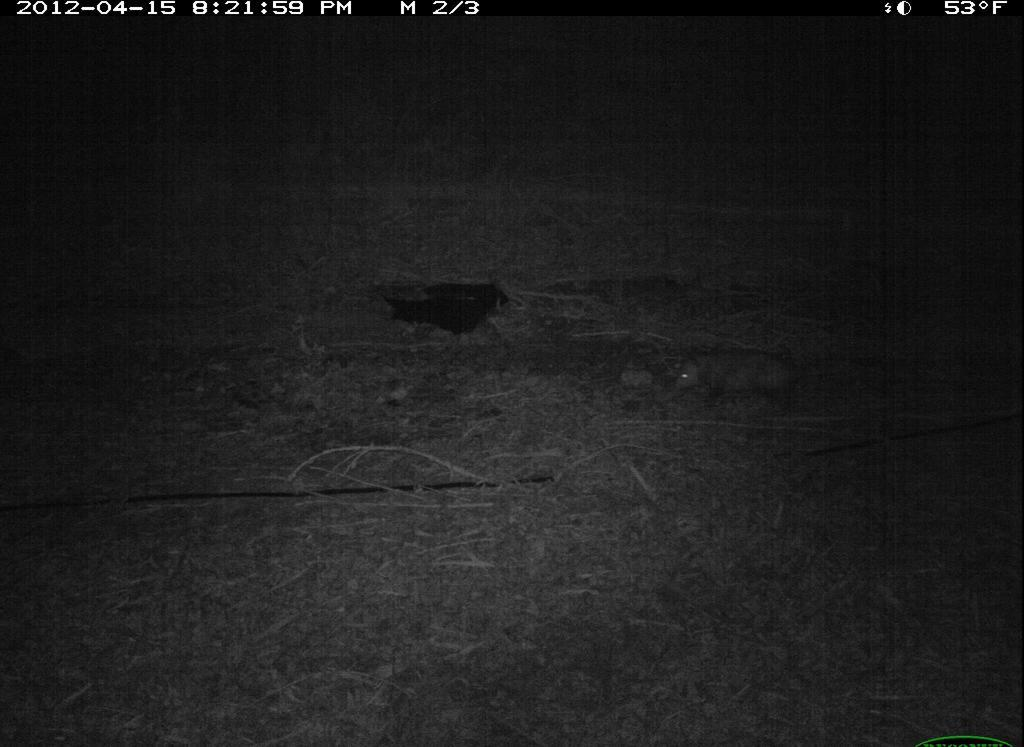opossum: (658, 335, 820, 425)
